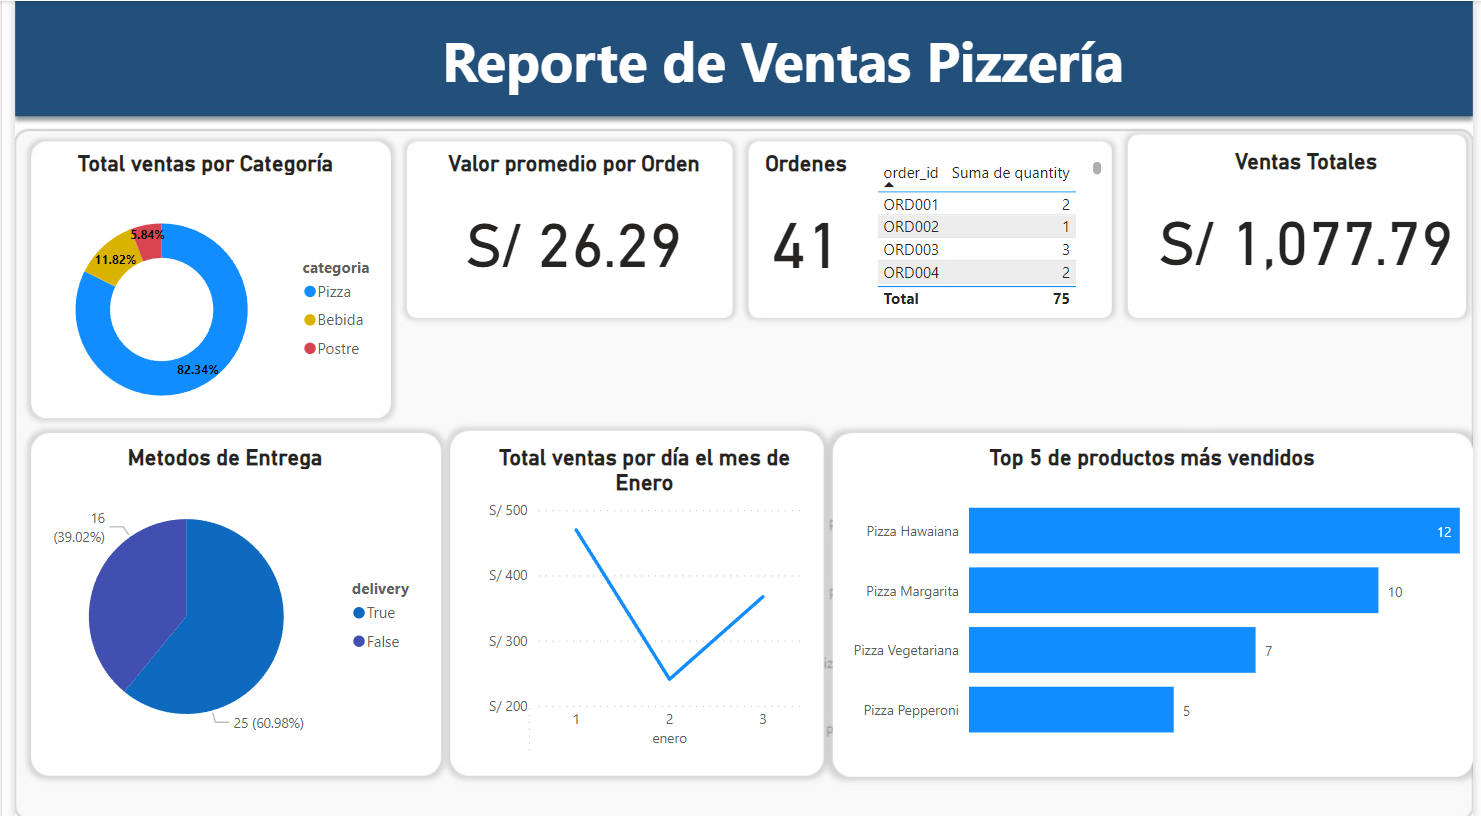

This screenshot's page, from the dashboard's own definition file:
{"tool":"powerbi","page":{"name":"Página 1","canvas":[1280,720],"ordinal":0},"visuals":[{"type":"card","title":"Ordenes","fields":{"Values":["bd_pizzeria vista_inicial.Ordenes Totales"]},"box":[611.1,130.8,166.8,130.8],"z":0},{"type":"card","title":"Ventas Totales","fields":{"Values":["bd_pizzeria vista_inicial.Total ventas"]},"box":[998.3,129.1,270.4,130.8],"z":1000},{"type":"card","title":"Valor promedio por Orden","fields":{"Values":["bd_pizzeria vista_inicial.Promedio Valor de Orden"]},"box":[360,130.8,261.7,130.8],"z":2000},{"type":"donutChart","title":"Total ventas por Categoría","fields":{"Category":["bd_pizzeria vista_inicial.item_cat"],"Y":["bd_pizzeria vista_inicial.Total ventas"]},"box":[0,130.8,334.5,258.1],"z":3000},{"type":"barChart","title":"Top 5 de productos más vendidos","fields":{"Category":["bd_pizzeria vista_inicial.item_name"],"Y":["Sum(bd_pizzeria vista_inicial.quantity)"]},"box":[722.6,389,551.4,281],"z":4000},{"type":"tableEx","fields":{"Values":["bd_pizzeria vista_inicial.order_id","Sum(bd_pizzeria vista_inicial.quantity)"]},"box":[751.6,135.2,208.1,140.5],"z":5000},{"type":"lineChart","title":"Total ventas por día el mes de Enero","fields":{"Y":["bd_pizzeria vista_inicial.Total ventas"],"Category":["bd_pizzeria vista_inicial.created_at.Variación.Jerarquía de fechas.Mes","bd_pizzeria vista_inicial.created_at.Variación.Jerarquía de fechas.Día"]},"box":[410.9,389,283.6,281],"z":6000},{"type":"pieChart","title":"Metodos de Entrega","fields":{"Category":["bd_pizzeria vista_inicial.delivery"],"Y":["CountNonNull(bd_pizzeria vista_inicial.order_id)"]},"box":[0,389,368.8,281],"z":7000},{"type":"textbox","box":[259,14,830.6,74.6],"z":8000}]}

Visuals, with their boxes in screenshot pixels (x1, y1, x2, y2), scaled from the page's 1280x720 canvas onto the 1481x816 screenshot:
"Ordenes" card: select_region(707, 148, 900, 296)
"Ventas Totales" card: select_region(1155, 146, 1468, 295)
"Valor promedio por Orden" card: select_region(417, 148, 719, 296)
"Total ventas por Categoría" donutChart: select_region(0, 148, 387, 441)
"Top 5 de productos más vendidos" barChart: select_region(836, 441, 1474, 759)
tableEx - bd_pizzeria vista_inicial.order_id x Sum(bd_pizzeria vista_inicial.quantity): select_region(870, 153, 1110, 312)
"Total ventas por día el mes de Enero" lineChart: select_region(475, 441, 804, 759)
"Metodos de Entrega" pieChart: select_region(0, 441, 427, 759)
textbox: select_region(300, 16, 1261, 100)
